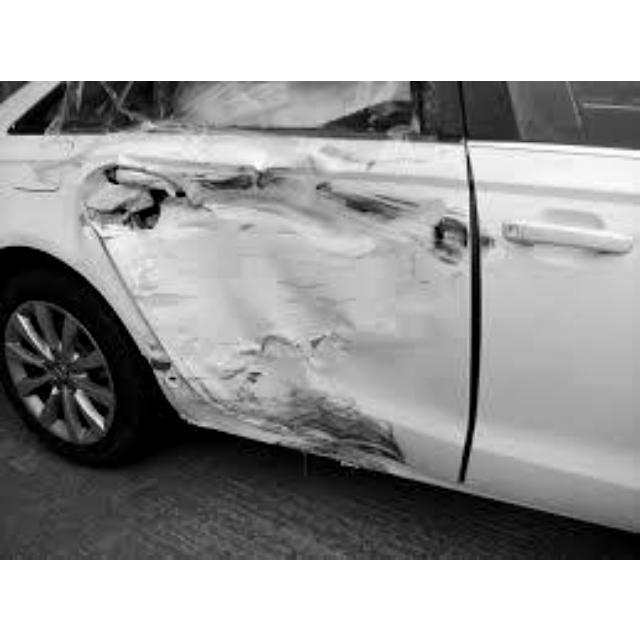doorouter-dent: (87, 140, 462, 461)
